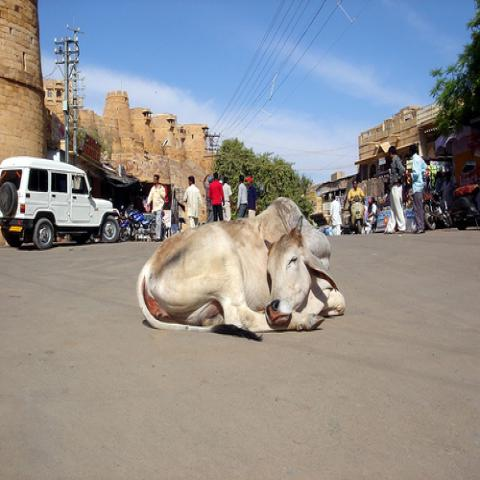car: (376, 207, 418, 232)
motorcycle: (120, 205, 165, 240), (447, 184, 479, 232), (424, 186, 453, 230), (347, 195, 363, 232)
truck: (0, 156, 120, 251)
